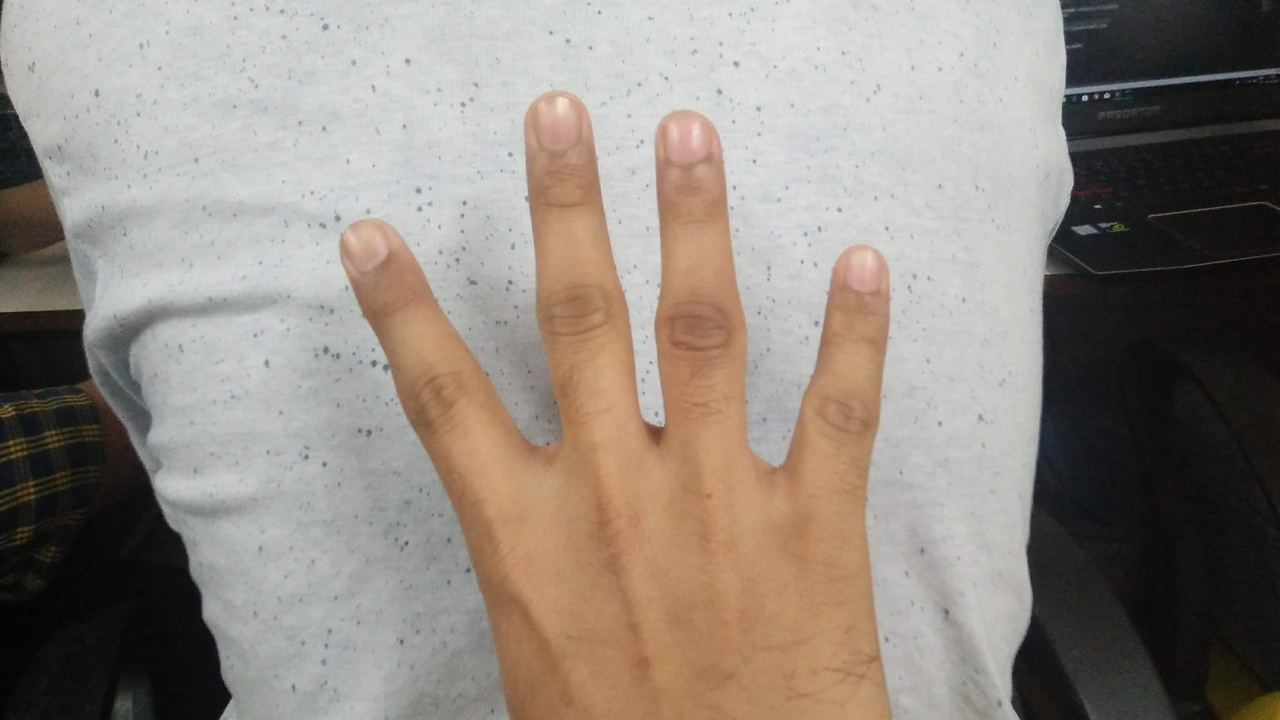fingertip: (326, 214, 410, 278), (646, 114, 726, 174), (828, 238, 896, 306), (518, 94, 590, 154)
